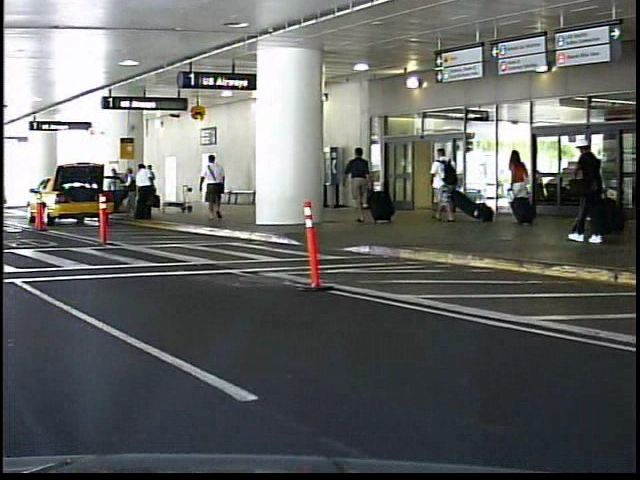person: (561, 136, 609, 247), (426, 142, 463, 225), (502, 145, 536, 231), (338, 143, 372, 226), (201, 151, 233, 224), (186, 164, 208, 211)
